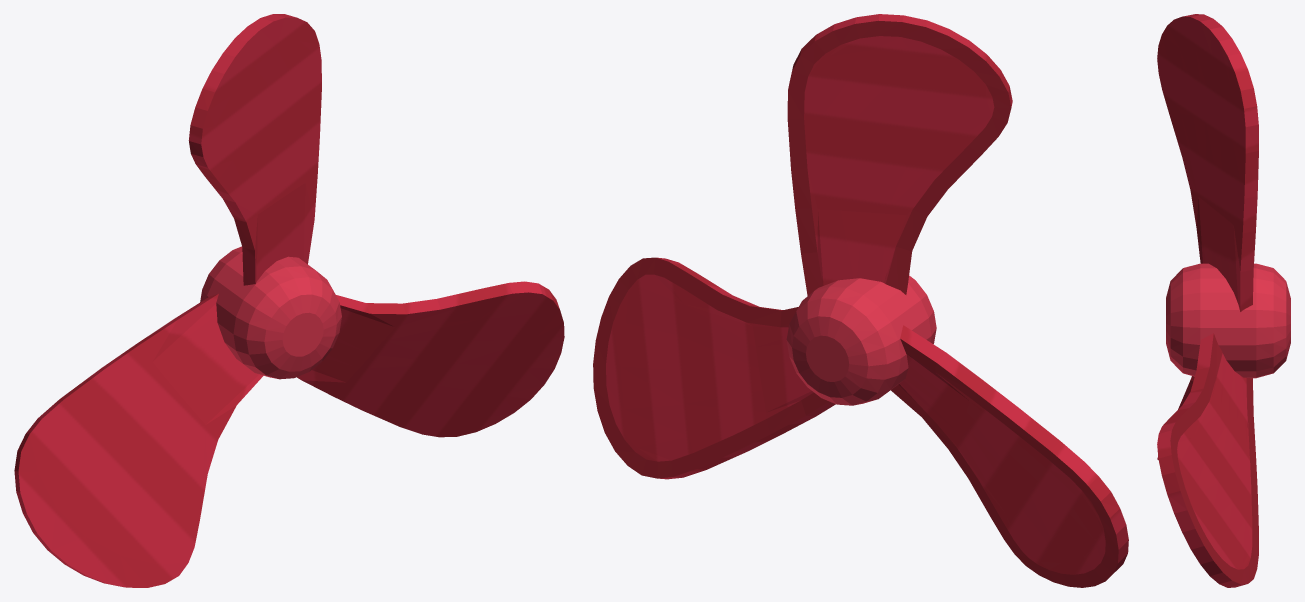
File: Hurdle24.fbx
3 views of the same model, side by side, from view 1: azimuth 30°, elevation 25°; view 2: azimuth 150°, elevation 25°; view 3: azimuth 270°, elevation 25° (orthographic). The views are drawn at different scales.
Visible parts, largest first — view 1: Hurdle24; view 2: Hurdle24; view 3: Hurdle24.
Boxes of the visible parts, bbox=[...] form: Hurdle24: bbox=[14, 14, 564, 587]; Hurdle24: bbox=[593, 14, 1128, 587]; Hurdle24: bbox=[1157, 14, 1290, 587].
Size of the model in its own units: 4.53 by 4.3 by 1.05.
1 material, 1 textured.
